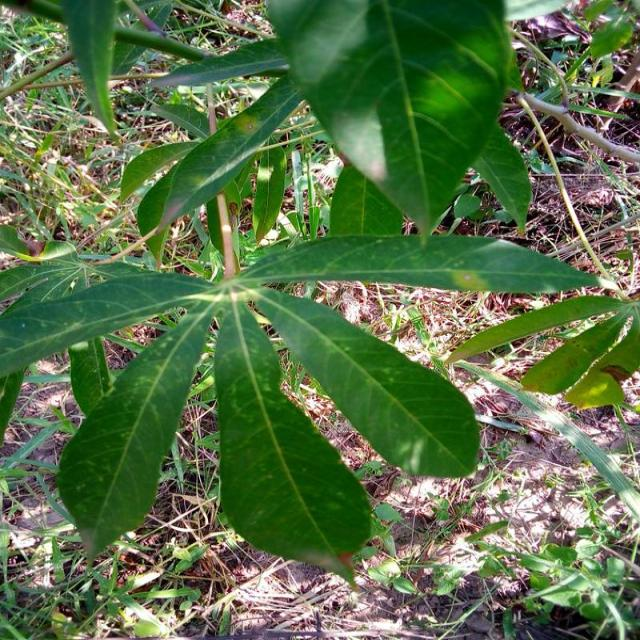cassava leaf: (266, 0, 522, 240), (214, 291, 376, 580), (56, 288, 219, 561), (254, 284, 482, 479), (136, 72, 304, 246)
